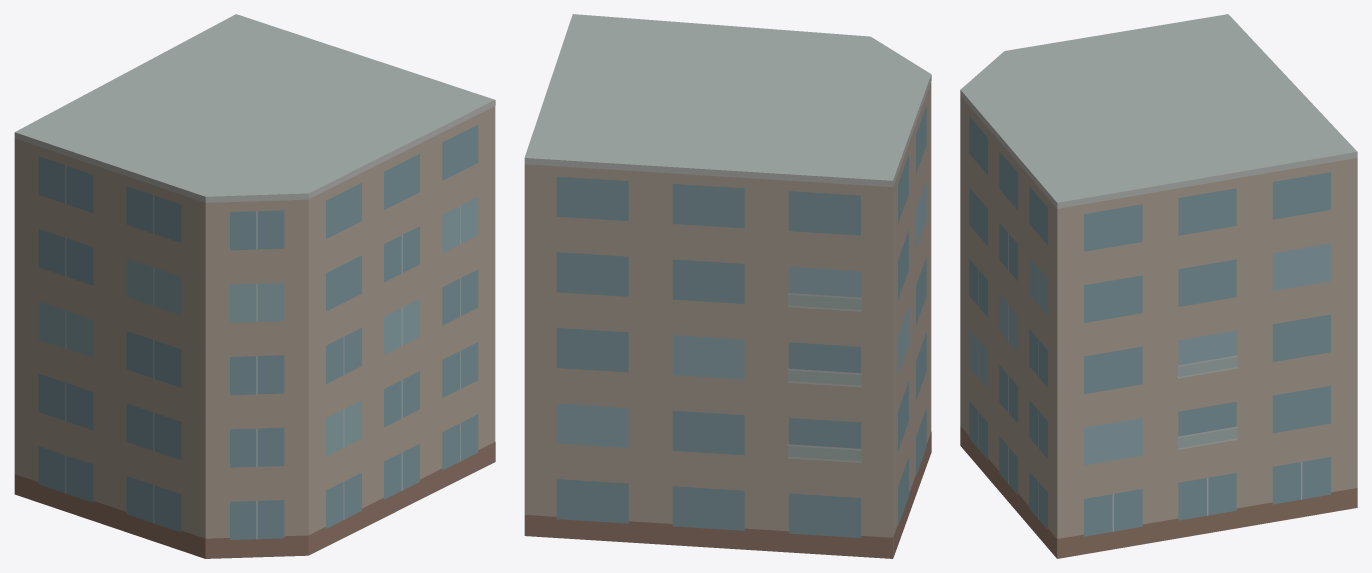
The model's file is survey-upis-32853748.glb.
3 views of the same model, side by side, from view 1: azimuth 30°, elevation 25°; view 2: azimuth 150°, elevation 25°; view 3: azimuth 270°, elevation 25° (orthographic). The views are drawn at different scales.
Visible parts, largest first — view 1: survey-upis-32853748.tmp; view 2: survey-upis-32853748.tmp; view 3: survey-upis-32853748.tmp.
Boxes of the visible parts, bbox=[...] form: survey-upis-32853748.tmp: bbox=[14, 14, 495, 558]; survey-upis-32853748.tmp: bbox=[524, 14, 931, 558]; survey-upis-32853748.tmp: bbox=[960, 14, 1357, 558].
Size of the model in its own units: 16.51 by 14.5 by 14.67.
